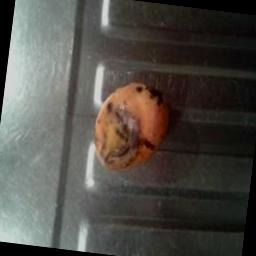Mango Rotten: (80, 76, 185, 181)
